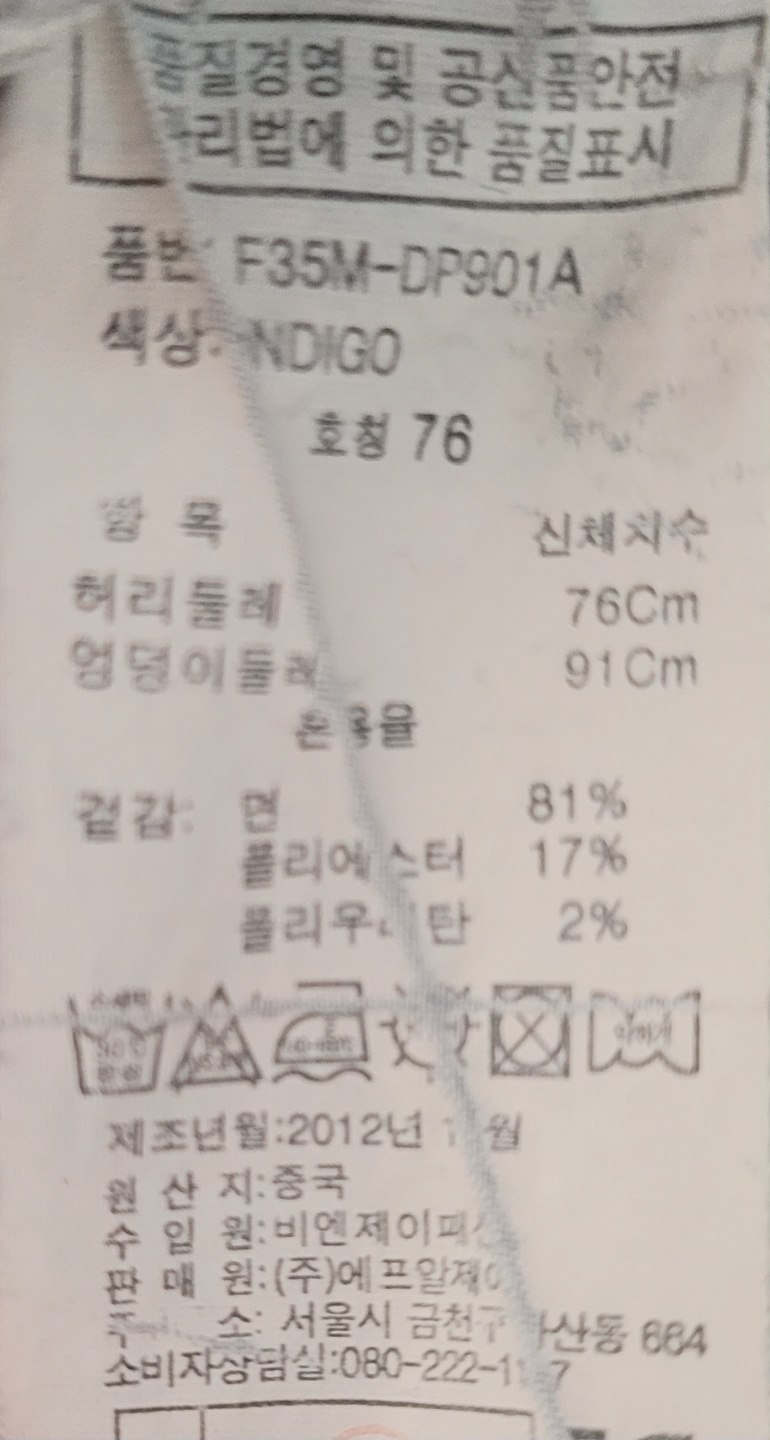KR_gentle_wring: (581, 989, 715, 1086)
KR_hand_wash_30_neutral: (60, 983, 169, 1099)
KR_no_bleach: (170, 986, 271, 1087)
KR_no_tumble_dry: (479, 972, 577, 1085)
